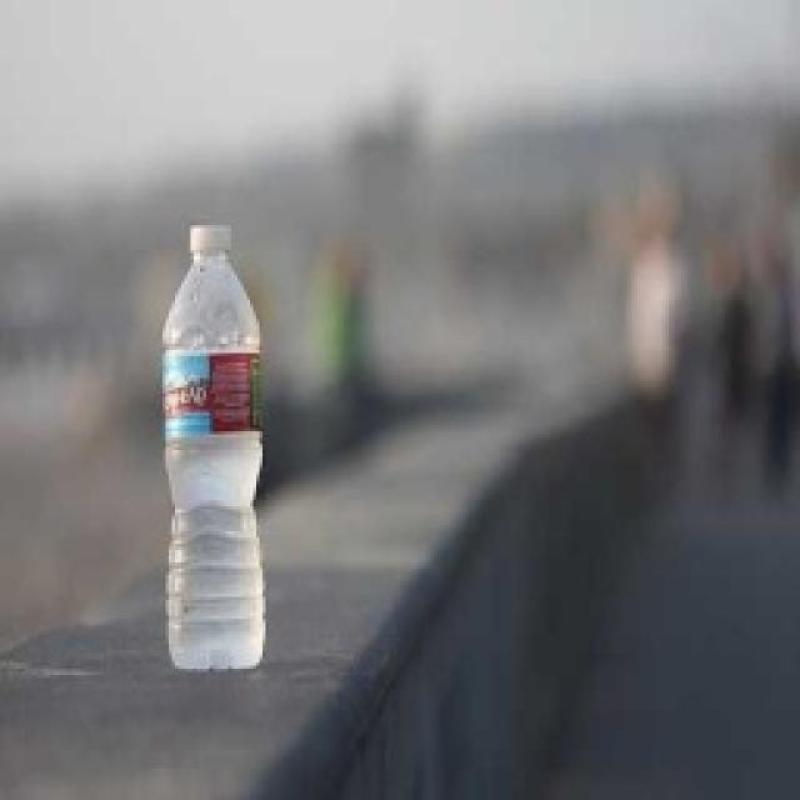botella: (154, 219, 270, 675)
